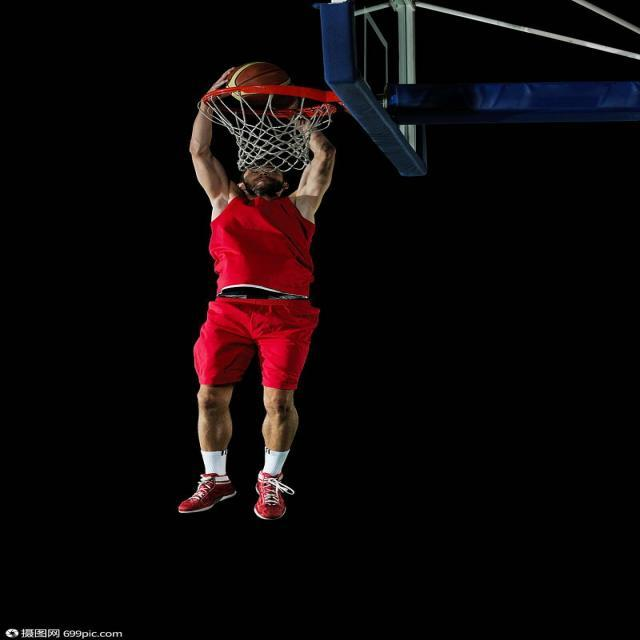rim: (227, 65, 288, 102)
